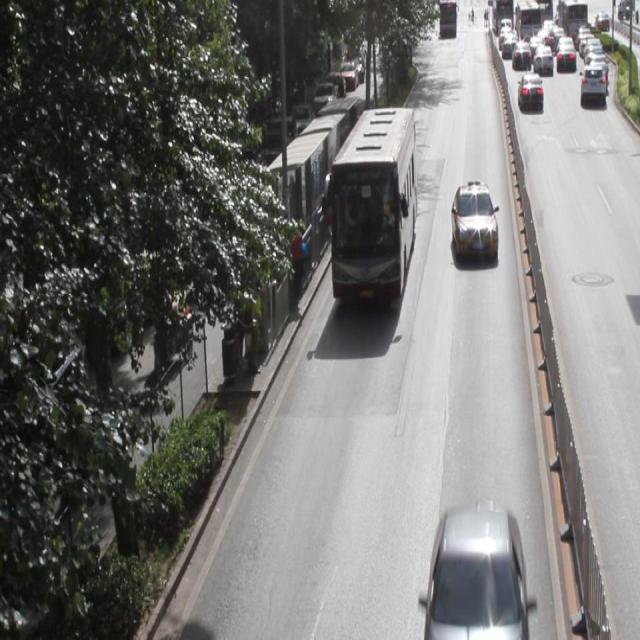car: (427, 511, 523, 640), (451, 182, 495, 260)
van: (331, 107, 414, 302)
